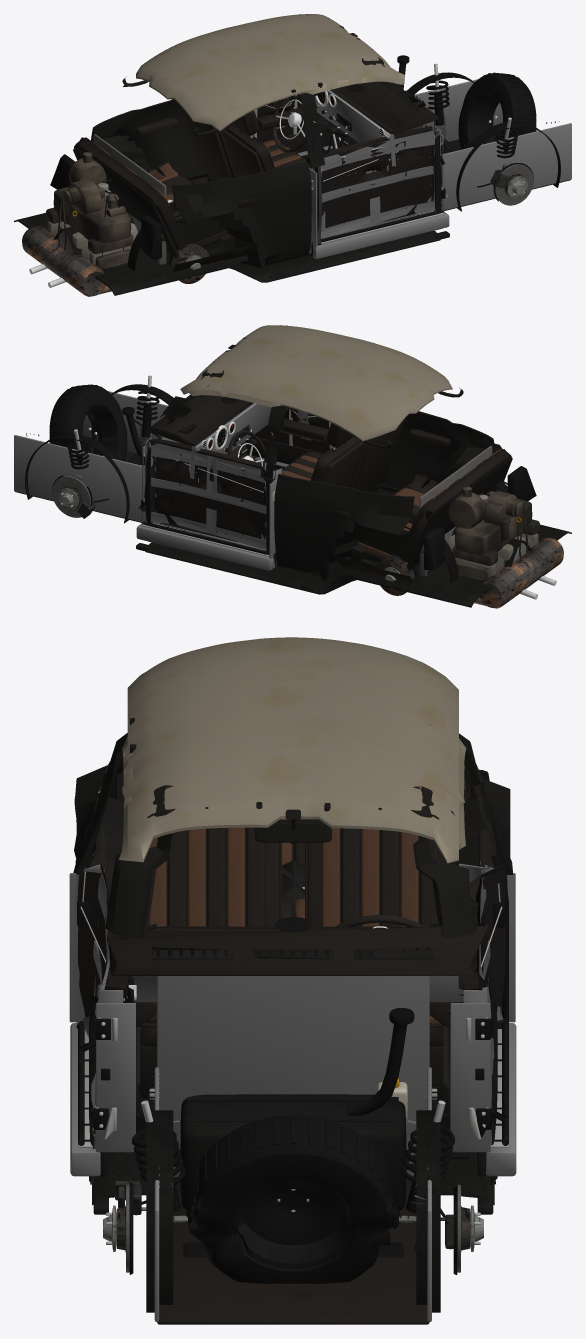
The model's file is besouro_completo.glb.
3 renders of one model, top to bottom at view 1: azimuth 30°, elevation 25°; view 2: azimuth 150°, elevation 25°; view 3: azimuth 270°, elevation 25°, orthographic. The views are drawn at different scales.
Parts seen in each view (by area): view 1: interior_forro_teto, interior_lateral_traseira_dir, interior_portamalas_carpete, engine_motor, door_card_fr, under_assoalho, interior_painel, interior_lateral_traseira_esq, interior_banco_traseiro, door_card_fr_chapa, interior_portamalas_estepe, under_escapamento (+20 smaller); view 2: interior_forro_teto, interior_lateral_traseira_esq, interior_portamalas_carpete, engine_motor, door_card_fl, under_assoalho, interior_lateral_traseira_dir, door_card_fl_chapa, interior_banco_traseiro, interior_painel, interior_portamalas_estepe, under_escapamento (+21 smaller); view 3: interior_forro_teto, interior_portamalas_carpete, interior_portamalas_estepe, interior_painel, interior_banco_dianteiro_dir, interior_banco_dianteiro_esq, under_tanque, interior_acabamento_colunas, jamb_fl_colunas, jamb_fr_colunas, under_caixa_roda_fr, door_card_fr (+19 smaller).
Boxes of the visible parts, left/top/right/bottom form: interior_forro_teto: left=122, top=14, right=404, bottom=136; interior_lateral_traseira_dir: left=171, top=162, right=311, bottom=268; interior_portamalas_carpete: left=403, top=73, right=571, bottom=210; engine_motor: left=46, top=152, right=137, bottom=296; door_card_fr: left=306, top=126, right=436, bottom=227; under_assoalho: left=14, top=202, right=449, bottom=295; interior_painel: left=299, top=81, right=438, bottom=166; interior_lateral_traseira_esq: left=91, top=99, right=205, bottom=177; interior_banco_traseiro: left=73, top=137, right=237, bottom=258; door_card_fr_chapa: left=312, top=126, right=447, bottom=243; interior_portamalas_estepe: left=458, top=72, right=536, bottom=149; under_escapamento: left=22, top=226, right=105, bottom=296; interior_forro_teto: left=180, top=325, right=463, bottom=448; interior_lateral_traseira_esq: left=274, top=474, right=414, bottom=580; interior_portamalas_carpete: left=14, top=385, right=179, bottom=522; engine_motor: left=448, top=486, right=539, bottom=608; door_card_fl: left=147, top=438, right=267, bottom=547; under_assoalho: left=136, top=514, right=571, bottom=607; interior_lateral_traseira_dir: left=380, top=411, right=502, bottom=489; door_card_fl_chapa: left=138, top=437, right=282, bottom=550; interior_banco_traseiro: left=348, top=449, right=512, bottom=570; interior_painel: left=147, top=395, right=287, bottom=478; interior_portamalas_estepe: left=49, top=384, right=127, bottom=461; under_escapamento: left=480, top=537, right=563, bottom=608; interior_forro_teto: left=118, top=637, right=466, bottom=863; interior_portamalas_carpete: left=154, top=976, right=431, bottom=1324; interior_portamalas_estepe: left=188, top=1115, right=396, bottom=1283; interior_painel: left=106, top=917, right=488, bottom=1001; interior_banco_dianteiro_dir: left=138, top=819, right=281, bottom=1110; interior_banco_dianteiro_esq: left=304, top=819, right=458, bottom=1110; under_tanque: left=180, top=1008, right=414, bottom=1210; interior_acabamento_colunas: left=75, top=713, right=513, bottom=939; jamb_fl_colunas: left=450, top=873, right=515, bottom=1152; jamb_fr_colunas: left=69, top=873, right=135, bottom=1152; under_caixa_roda_fr: left=146, top=1110, right=173, bottom=1312; door_card_fr: left=77, top=862, right=156, bottom=1112.
Size of what is drawn, in the model's own units: 3.71 by 1.37 by 1.44.
43 materials, 43 textured.
